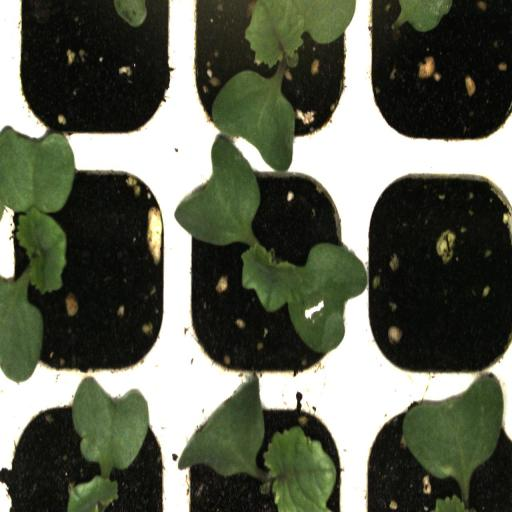noseedling: (361, 159, 512, 391)
seedling: (176, 153, 357, 387), (2, 153, 177, 384), (177, 0, 360, 158), (2, 382, 178, 512), (177, 388, 356, 512)
